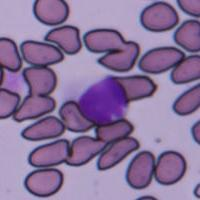M: (76, 74, 128, 125)
